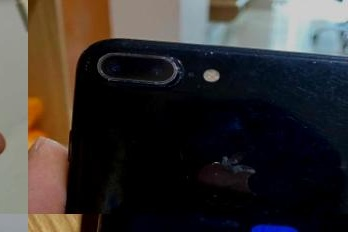scratch: (66, 30, 348, 107), (120, 126, 203, 184), (203, 146, 265, 203)
